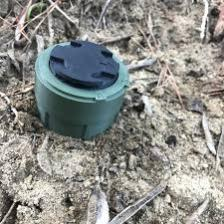M14: (37, 40, 127, 139)
